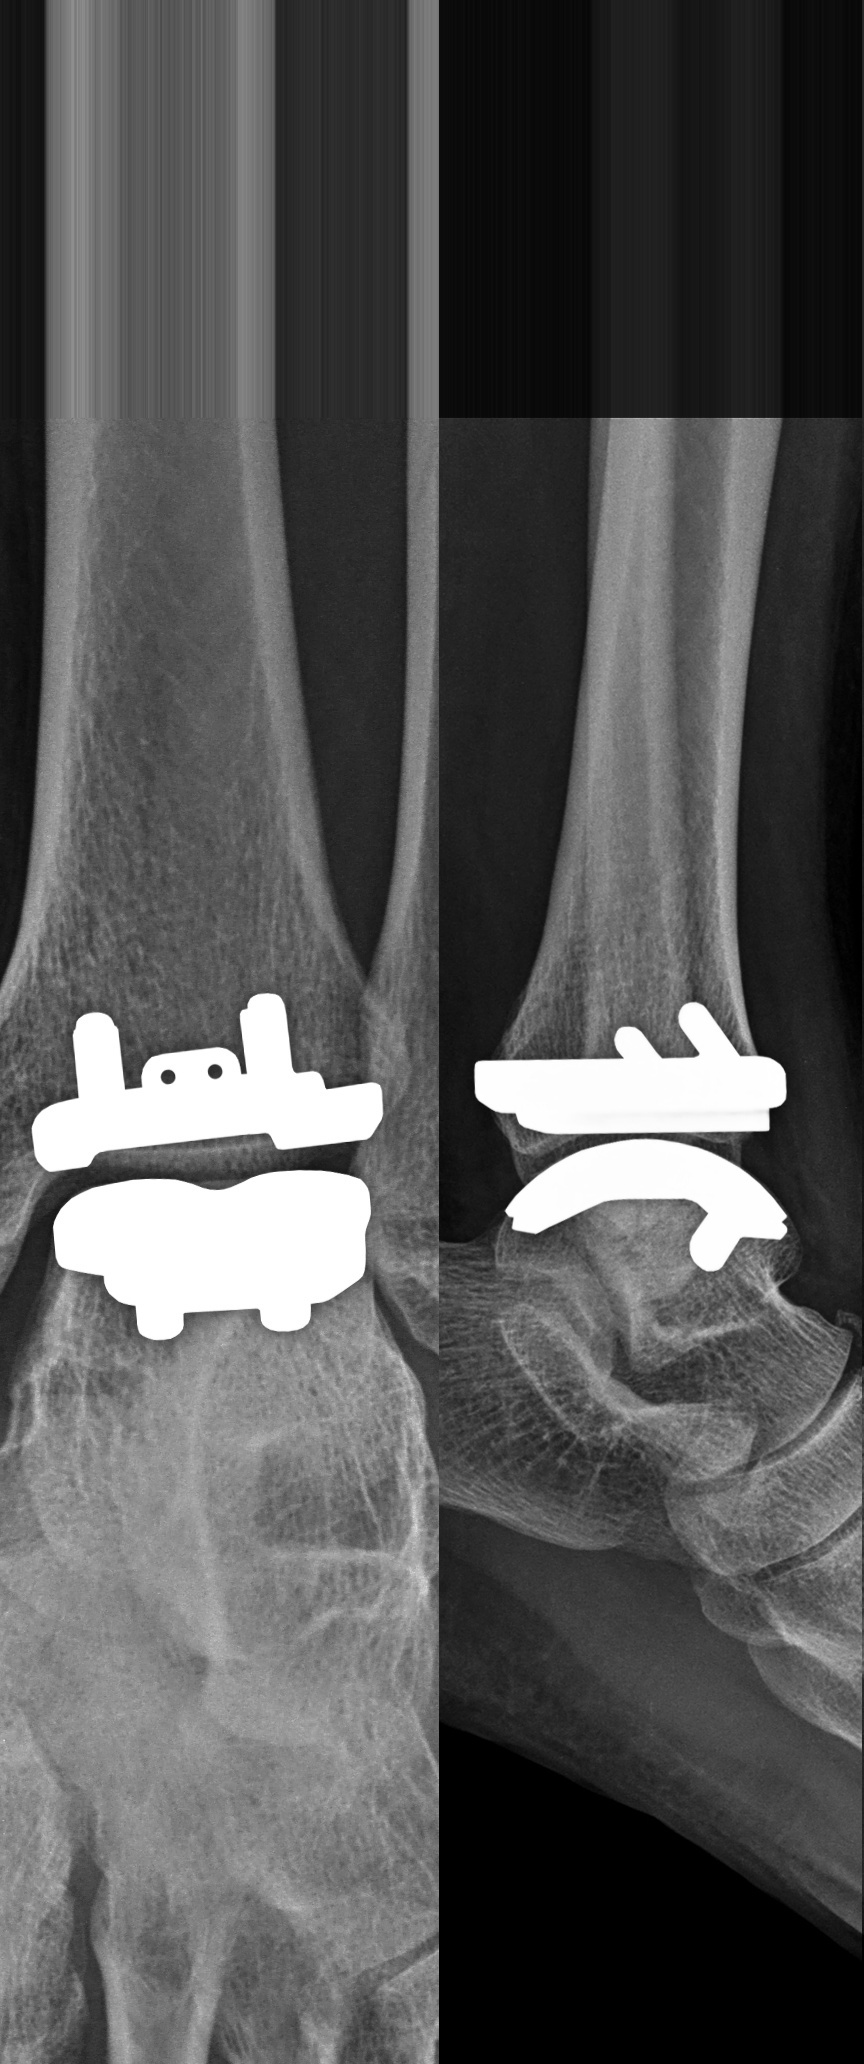Cadence-Integra: (17, 971, 394, 1362), (462, 990, 813, 1283)
